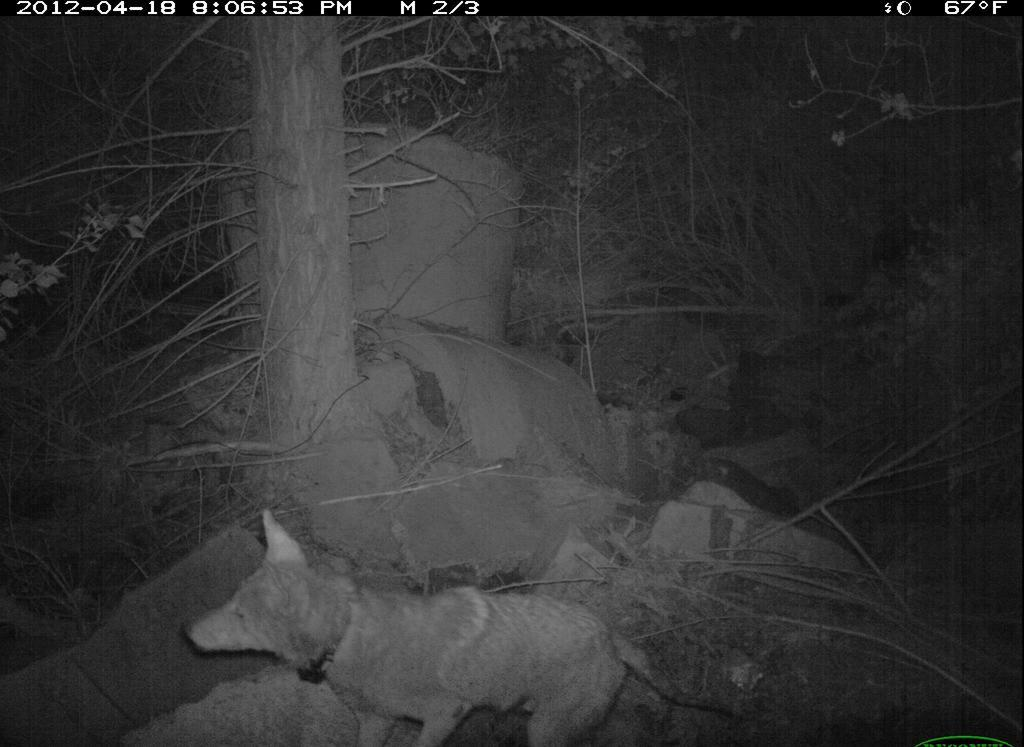coyote: (177, 513, 711, 738)
